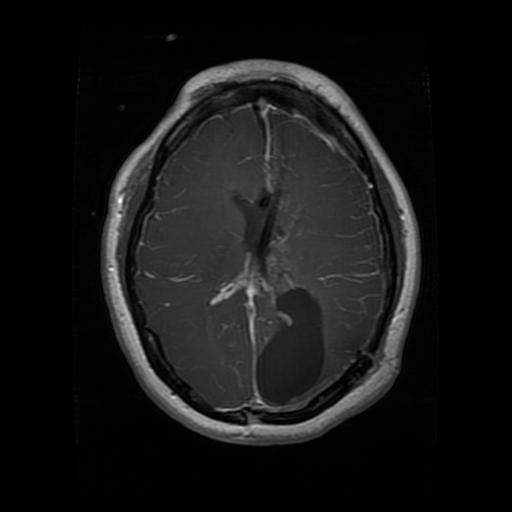Gliomia_tumour: (207, 177, 324, 405)
